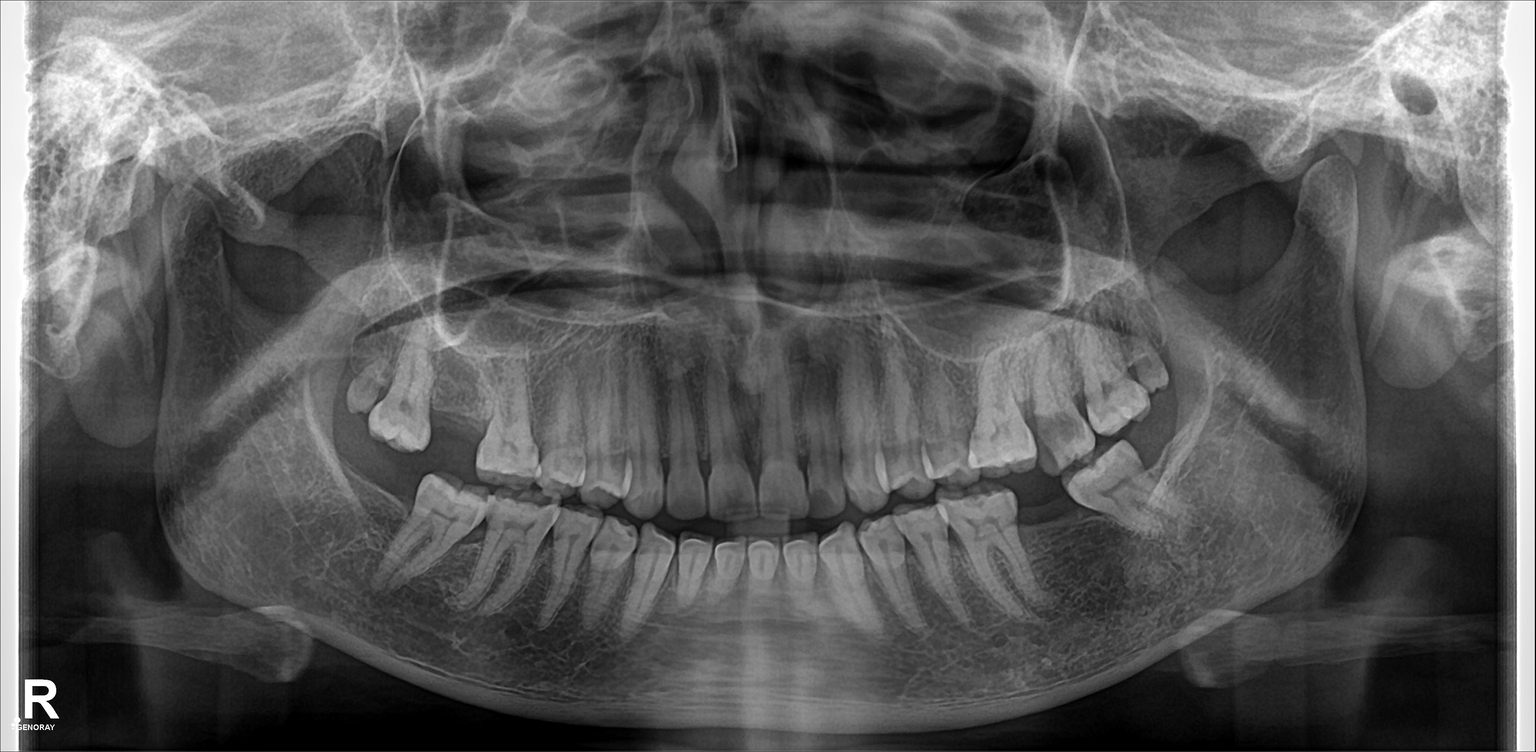Dental Caries: (1028, 411, 1086, 462)
Impacted Third Molar: (1073, 456, 1171, 527)
Missing Tooth: (1021, 482, 1077, 603), (352, 456, 410, 550), (426, 354, 478, 450), (1142, 421, 1201, 486)
Retained Root: (1127, 307, 1199, 395), (328, 329, 378, 425)
